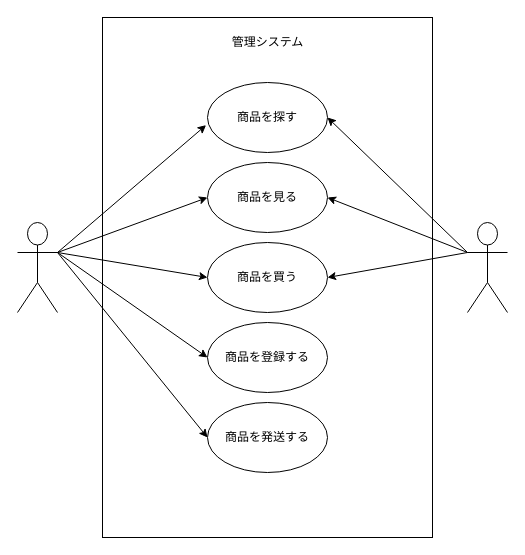
This 525x555 diagram has some shape labels left out. Each missing label, with the centre of its shape:
"管理者" belongs at pixel 37 267.
"購入者" belongs at pixel 487 267.
